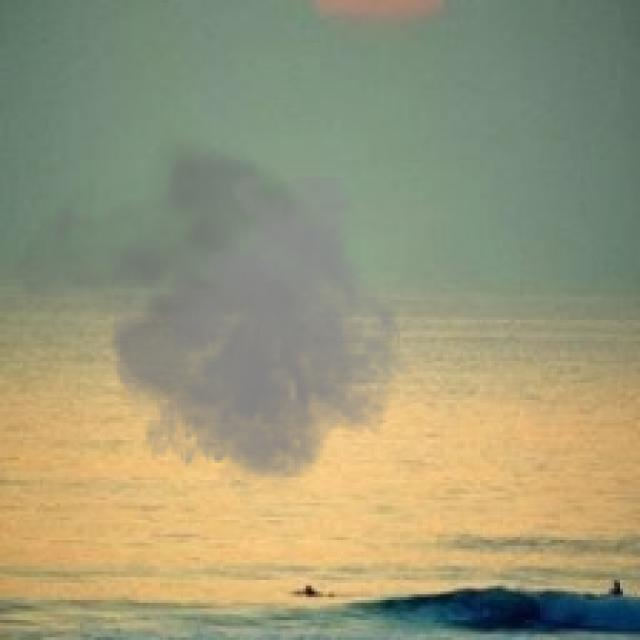Smoke: (6, 131, 412, 506)
